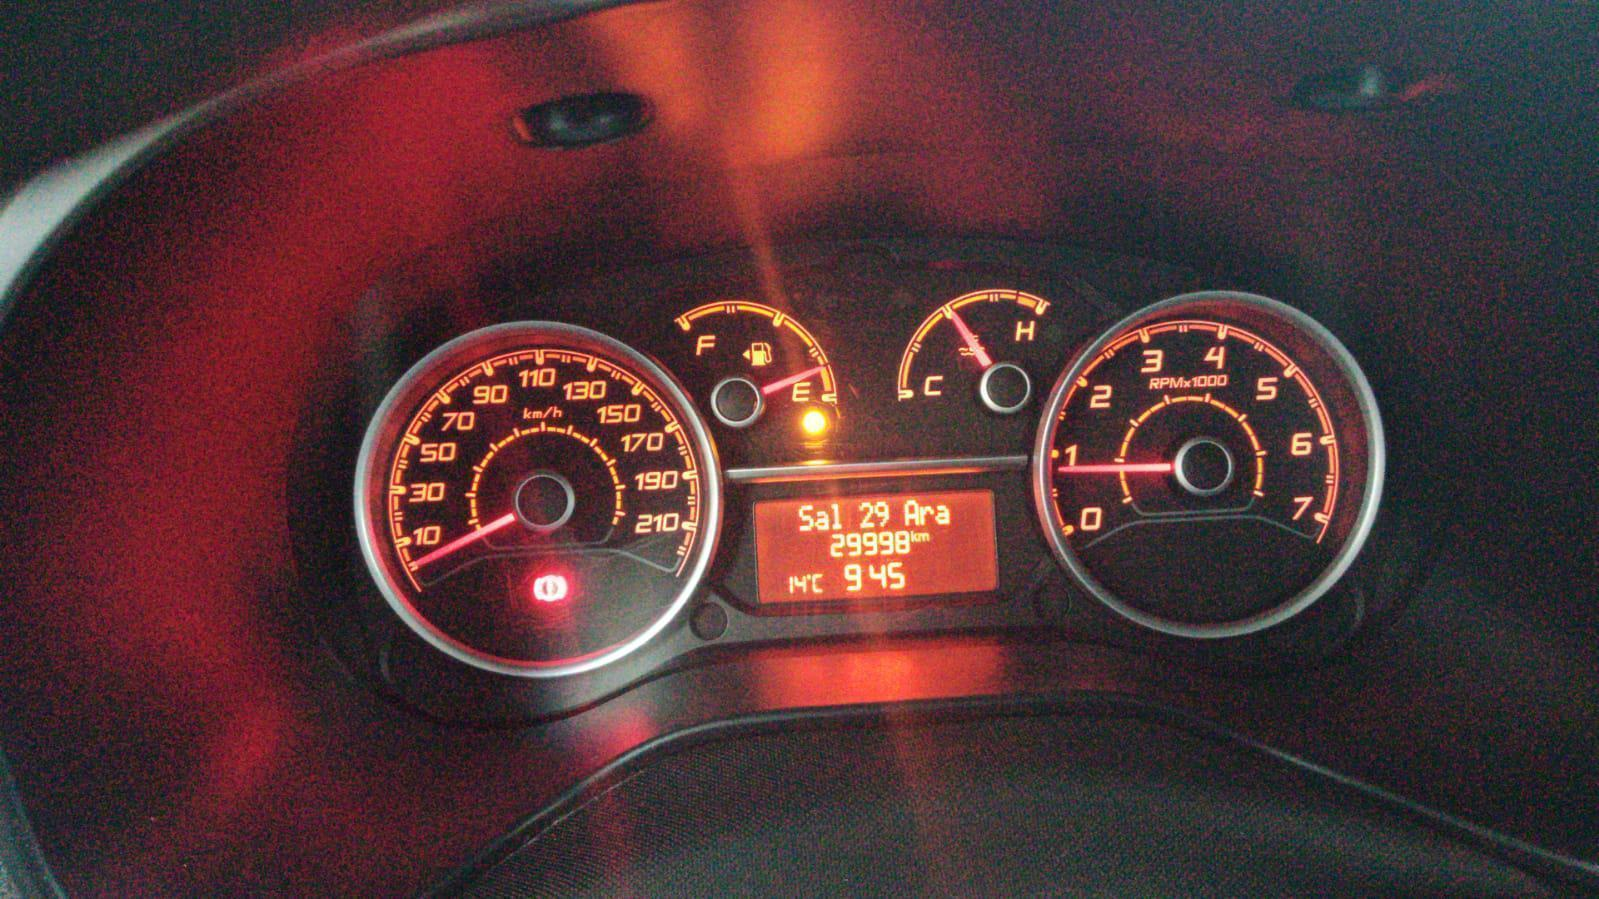1: (786, 574, 794, 596)
2: (858, 501, 874, 527), (828, 531, 845, 557)
4: (868, 561, 887, 589), (795, 575, 806, 594)
5: (888, 561, 905, 589)
8: (895, 528, 909, 554)
9: (845, 564, 862, 589), (877, 529, 895, 553), (845, 532, 862, 557), (862, 530, 877, 555), (875, 499, 888, 526)
X: (797, 504, 814, 532), (903, 501, 918, 526), (830, 501, 843, 529), (919, 504, 933, 526), (812, 572, 826, 594), (937, 502, 950, 525), (815, 512, 830, 530), (919, 531, 931, 542), (910, 528, 918, 542)
odometer: (750, 486, 1000, 600)
